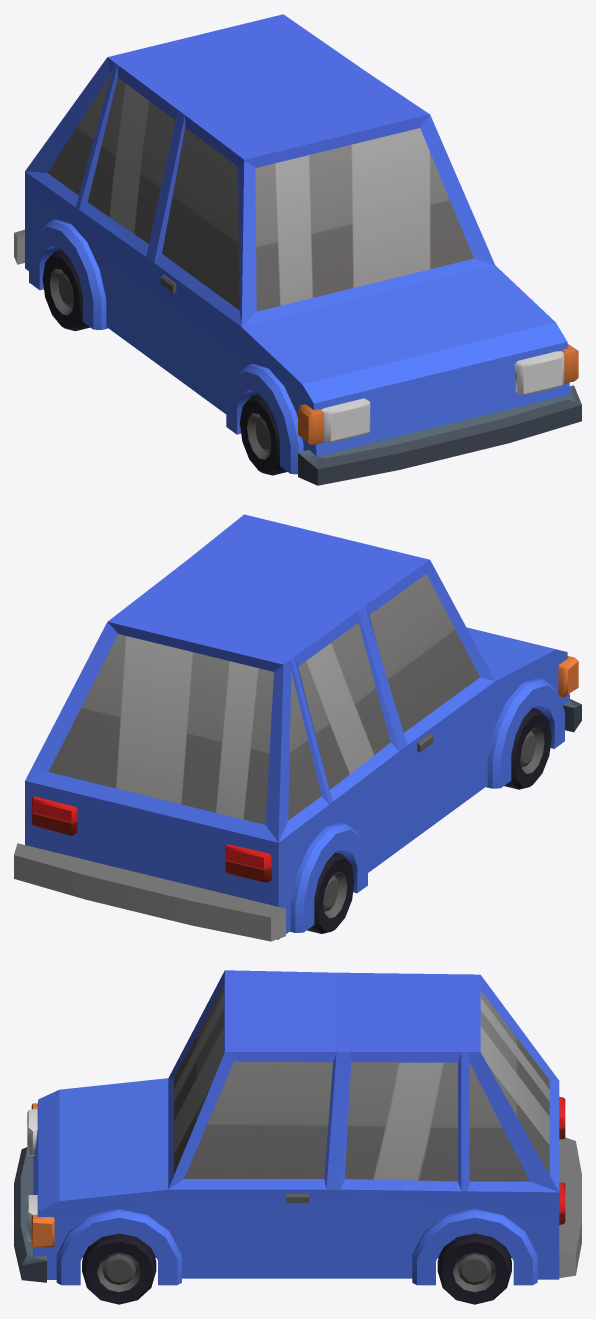
The model's file is Car_1_13.glb.
3 renders of one model, top to bottom at view 1: azimuth 30°, elevation 25°; view 2: azimuth 150°, elevation 25°; view 3: azimuth 270°, elevation 25°, orthographic. The views are drawn at different scales.
Visible parts, largest first — view 1: Car_1_13, Wheel_Br, Wheel_Fr; view 2: Car_1_13, Wheel_Fr, Wheel_Br; view 3: Car_1_13, Wheel_Fl, Wheel_Bl.
Part boxes in pixels (x1=…): Car_1_13: x1=14, y1=14, x2=581, y2=485; Wheel_Br: x1=42, y1=249, x2=89, y2=331; Wheel_Fr: x1=240, y1=394, x2=287, y2=475; Car_1_13: x1=14, y1=514, x2=581, y2=941; Wheel_Fr: x1=504, y1=708, x2=551, y2=789; Wheel_Br: x1=307, y1=852, x2=354, y2=933; Car_1_13: x1=14, y1=970, x2=581, y2=1285; Wheel_Fl: x1=82, y1=1233, x2=156, y2=1304; Wheel_Bl: x1=437, y1=1233, x2=511, y2=1304.
Bounding box in the file's own units: 1.05 × 0.9433 × 2.07.
Materials: 4 (4 with a texture image).
